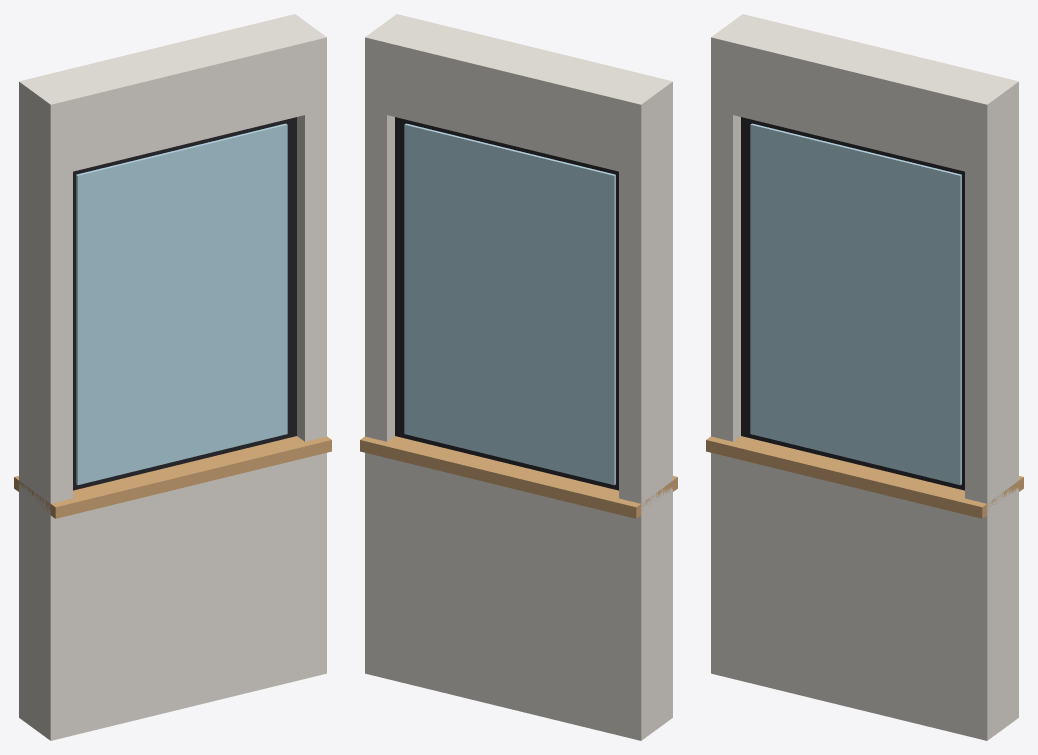
Rendered from raum_wand_fenster.glb.
3 renders of one model, left to right at view 1: azimuth 30°, elevation 25°; view 2: azimuth 150°, elevation 25°; view 3: azimuth 330°, elevation 25°, orthographic.
Parts seen in each view (by area): view 1: raum_wand_fenster; view 2: raum_wand_fenster; view 3: raum_wand_fenster.
Boxes of the visible parts, x1,y1,x2,y2 form: raum_wand_fenster: (14,14,331,740); raum_wand_fenster: (360,14,677,740); raum_wand_fenster: (706,14,1023,740).
Size of the model in its own units: 1 by 2.2 by 0.26.
